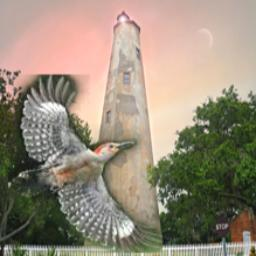Woodpecker: (8, 74, 162, 253)
